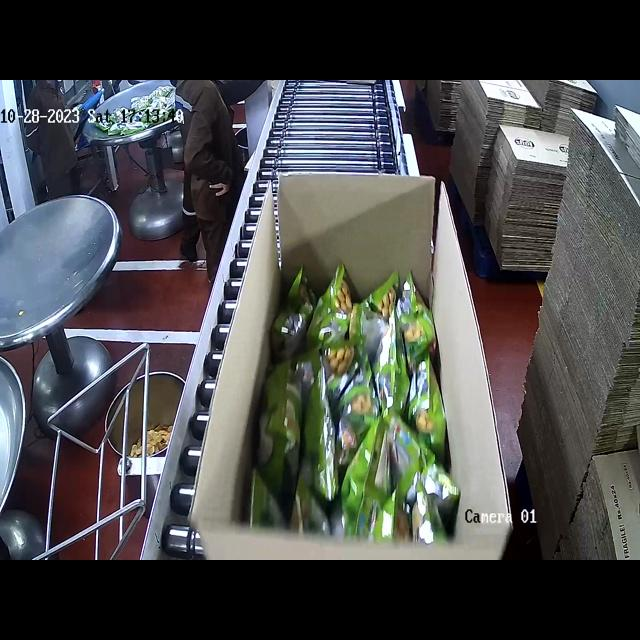yogurt: (249, 261, 459, 544)
